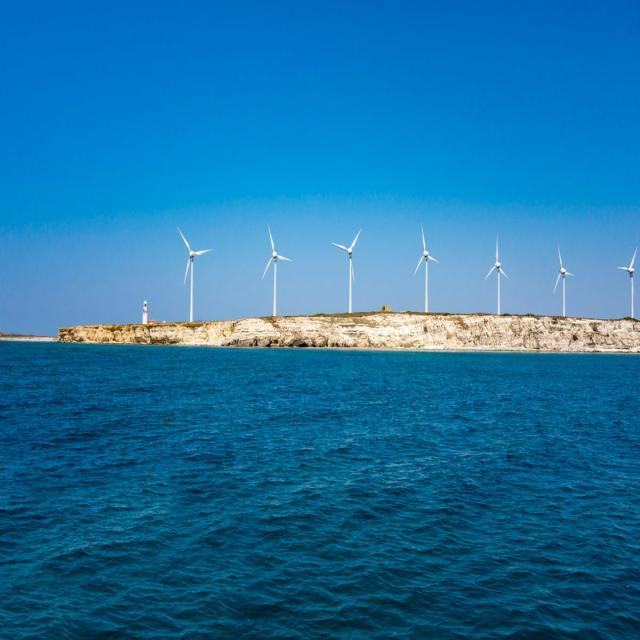wind-turbine: (178, 228, 211, 322), (261, 225, 293, 317)
